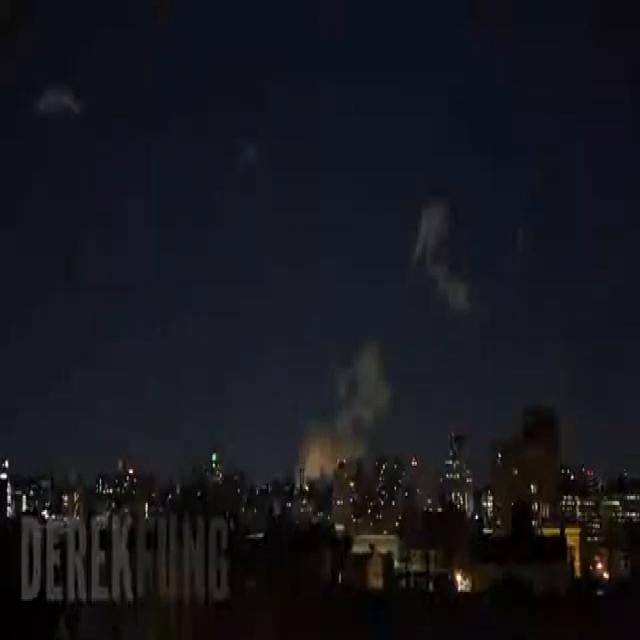smoke: (301, 341, 394, 475), (416, 201, 472, 315)
